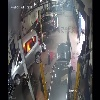fire: (22, 34, 36, 50)
